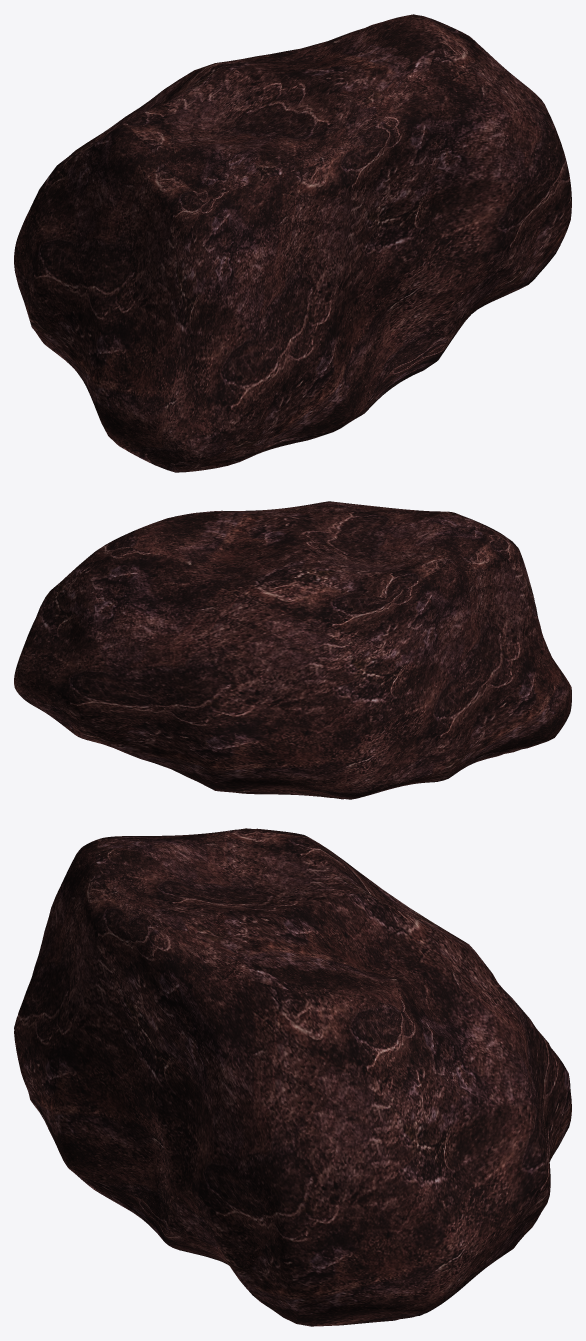
File: EP_Rock_003.fbx
3 views of the same model, one above another, from view 1: azimuth 30°, elevation 25°; view 2: azimuth 150°, elevation 25°; view 3: azimuth 270°, elevation 25° (orthographic). The views are drawn at different scales.
Visible parts, largest first — view 1: Cube; view 2: Cube; view 3: Cube.
Boxes of the visible parts, bbox=[...] form: Cube: bbox=[14, 14, 571, 472]; Cube: bbox=[14, 501, 571, 799]; Cube: bbox=[14, 828, 571, 1326].
Size of the model in its own units: 370 by 181 by 293.
Materials: 1 (1 with a texture image).
